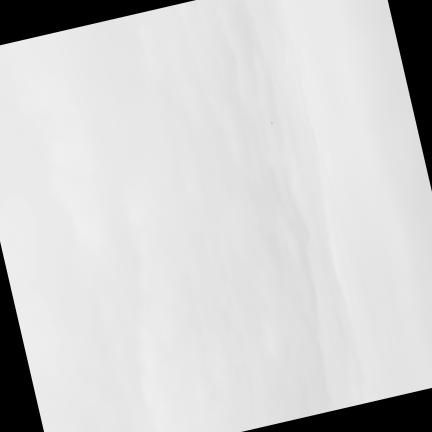Shahed: (270, 120, 273, 124)
